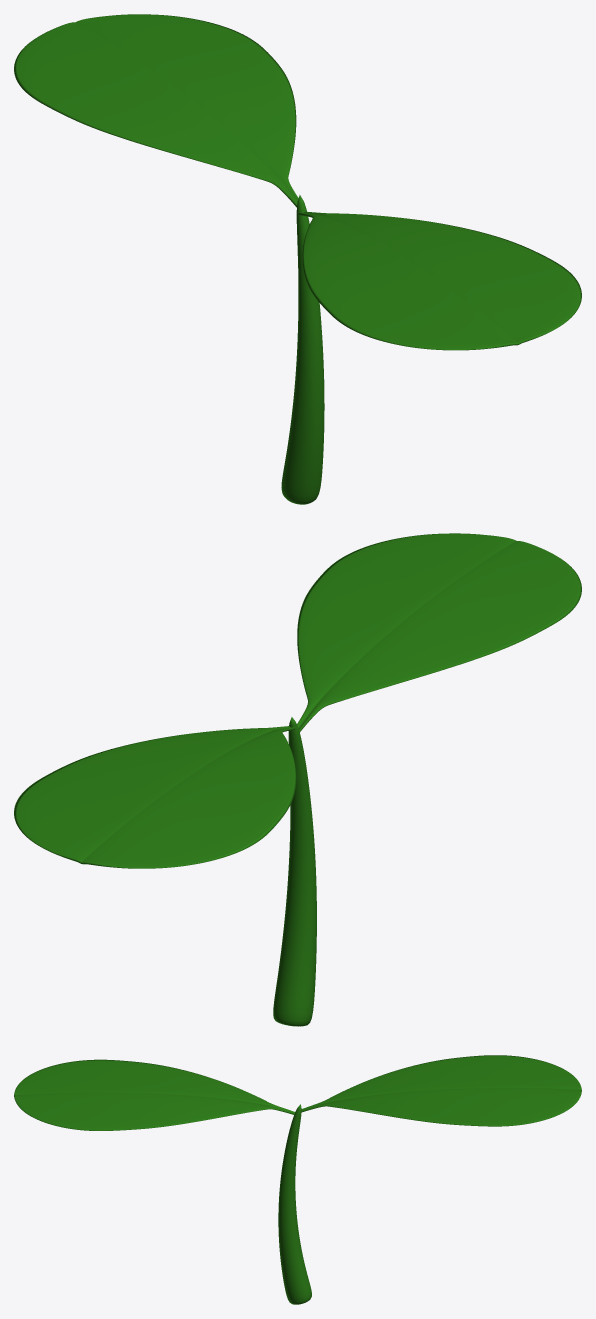
The model's file is brote.fbx.
3 views of the same model, one above another, from view 1: azimuth 30°, elevation 25°; view 2: azimuth 150°, elevation 25°; view 3: azimuth 270°, elevation 25° (orthographic). The views are drawn at different scales.
Visible parts, largest first — view 1: Círculo.001, Círculo, Cilindro; view 2: Círculo, Círculo.001, Cilindro; view 3: Círculo.001, Círculo, Cilindro.
Part boxes in pixels (box(x1,y1,x2,y2)): Círculo.001: box(14, 14, 298, 207); Círculo: box(298, 211, 581, 350); Cilindro: box(281, 195, 324, 504); Círculo: box(297, 533, 581, 732); Círculo.001: box(14, 726, 296, 868); Cilindro: box(273, 717, 316, 1026); Círculo.001: box(300, 1055, 581, 1126); Círculo: box(14, 1059, 295, 1130); Cilindro: box(278, 1104, 311, 1304).
Bounding box in the file's own units: 195 × 264 × 640.
